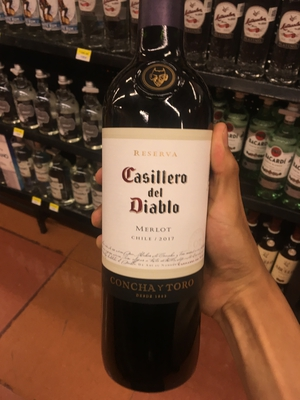casillero del diablo merlot: (96, 6, 223, 400)
